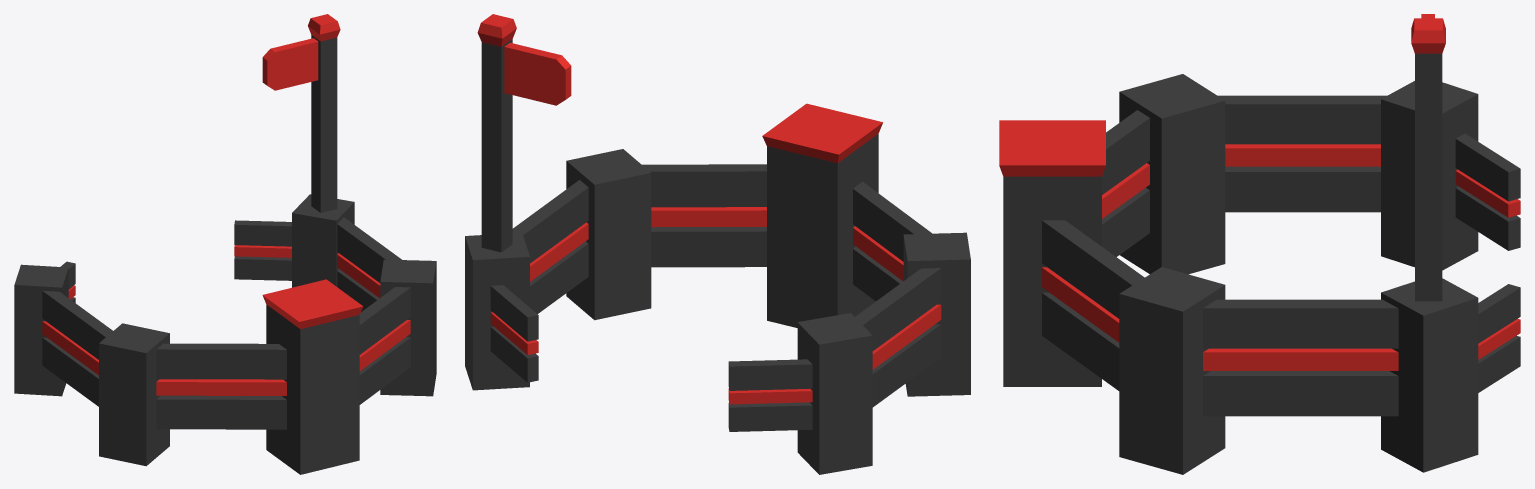
File: WallsLevel2.fbx
3 views of the same model, side by side, from view 1: azimuth 30°, elevation 25°; view 2: azimuth 150°, elevation 25°; view 3: azimuth 270°, elevation 25° (orthographic). The views are drawn at different scales.
Visible parts, largest first — view 1: Cube.180; view 2: Cube.180; view 3: Cube.180.
Part boxes in pixels (x1,y1,x2,y2): Cube.180: (14,14,436,474); Cube.180: (465,14,970,474); Cube.180: (999,14,1520,474).
Size of the model in its own units: 170 by 146 by 156.
